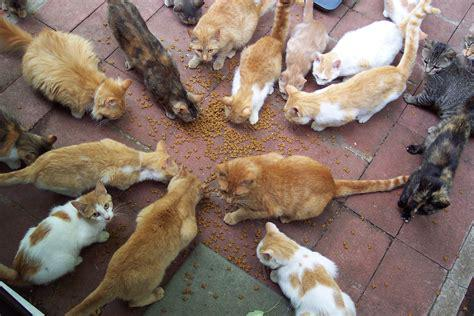cat: (284, 1, 431, 131), (213, 153, 413, 224), (1, 14, 131, 123), (1, 179, 113, 284), (106, 1, 202, 123), (1, 138, 179, 197), (257, 222, 356, 316), (223, 1, 291, 125), (398, 115, 474, 218), (312, 13, 407, 88), (187, 1, 274, 69), (405, 39, 474, 120), (278, 1, 328, 103), (164, 1, 204, 27)
